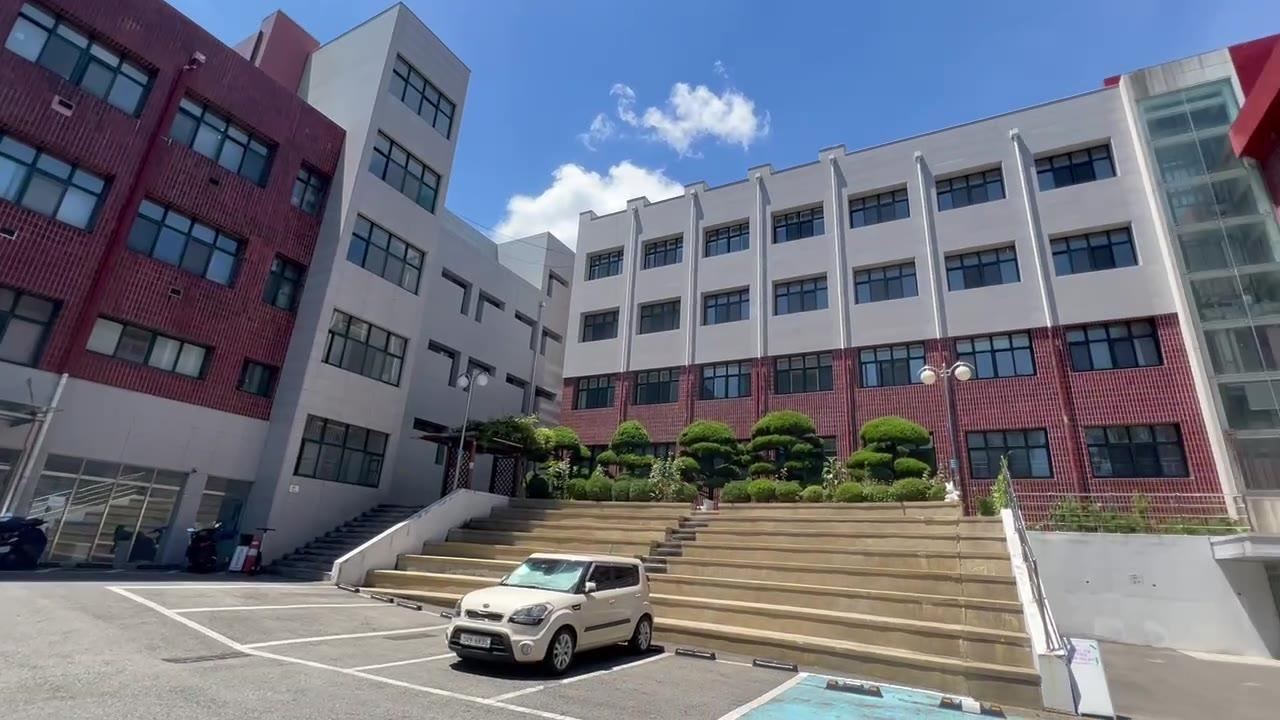building: (3, 0, 1280, 501)
